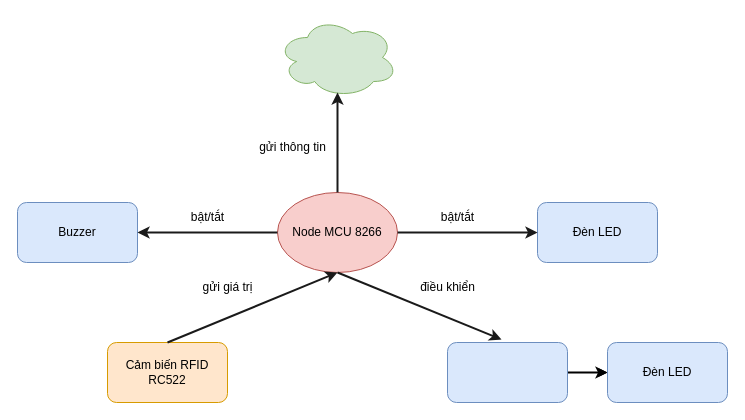
The diagram is 745 pixels wide and 420 high, and some of its shapes have lost their labels. Each missing label, with the box of its shape:
Blynk: (276, 16, 398, 98)
Relay: (446, 342, 568, 402)
